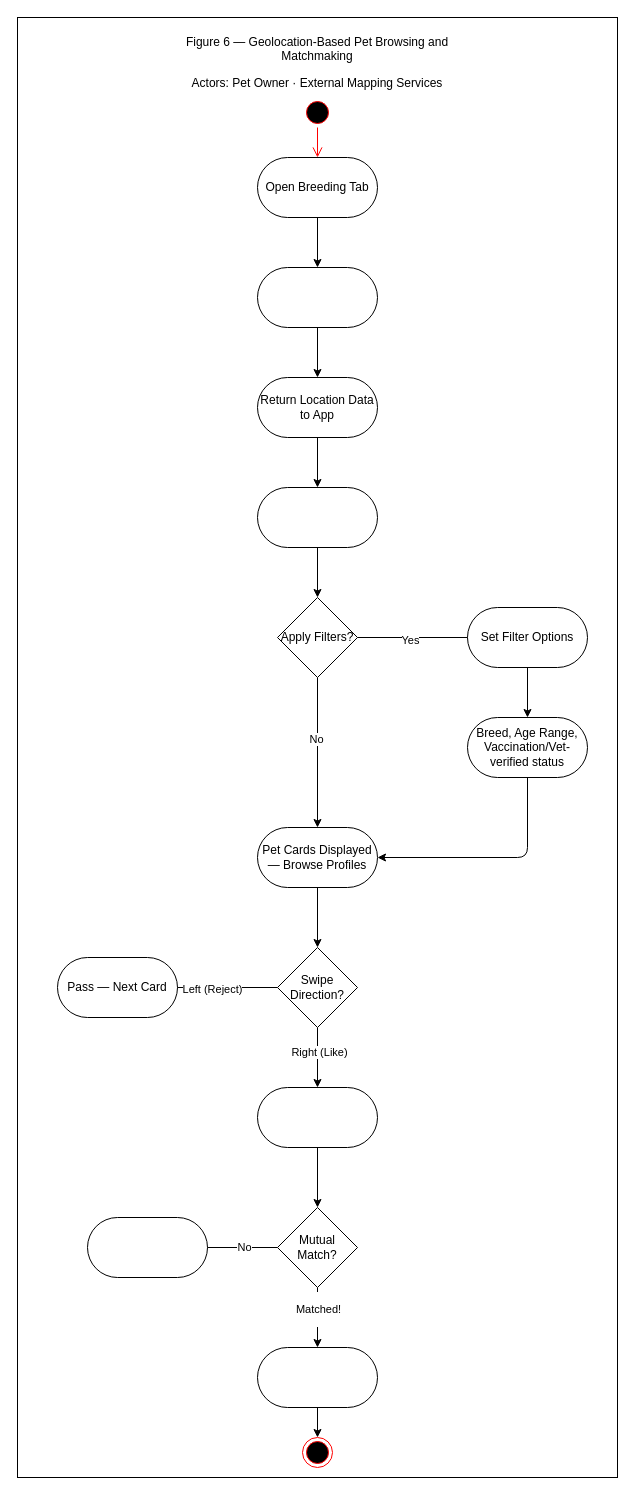
Some shapes in this 635 by 1495 pixel diagram are drawn without their labels. The shapes that lost their labels are listed below. From the top down, each one's centre as x and y in pixels, then its label:
pixel 317 297: Detect Location
pixel 317 517: Load Nearby Pets Based on Location
pixel 317 1117: Like Registered
pixel 147 1247: Stay in Likes
pixel 317 1377: Both Users Notified — Chat Unlocked
